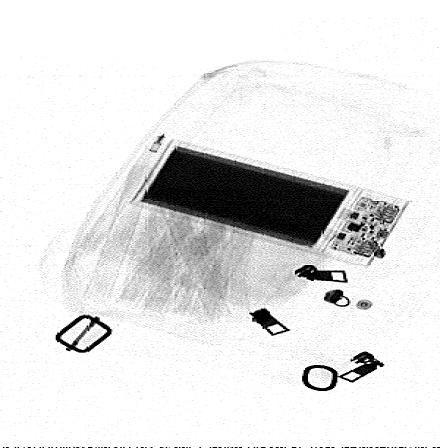Powerbank: (129, 138, 412, 268)
